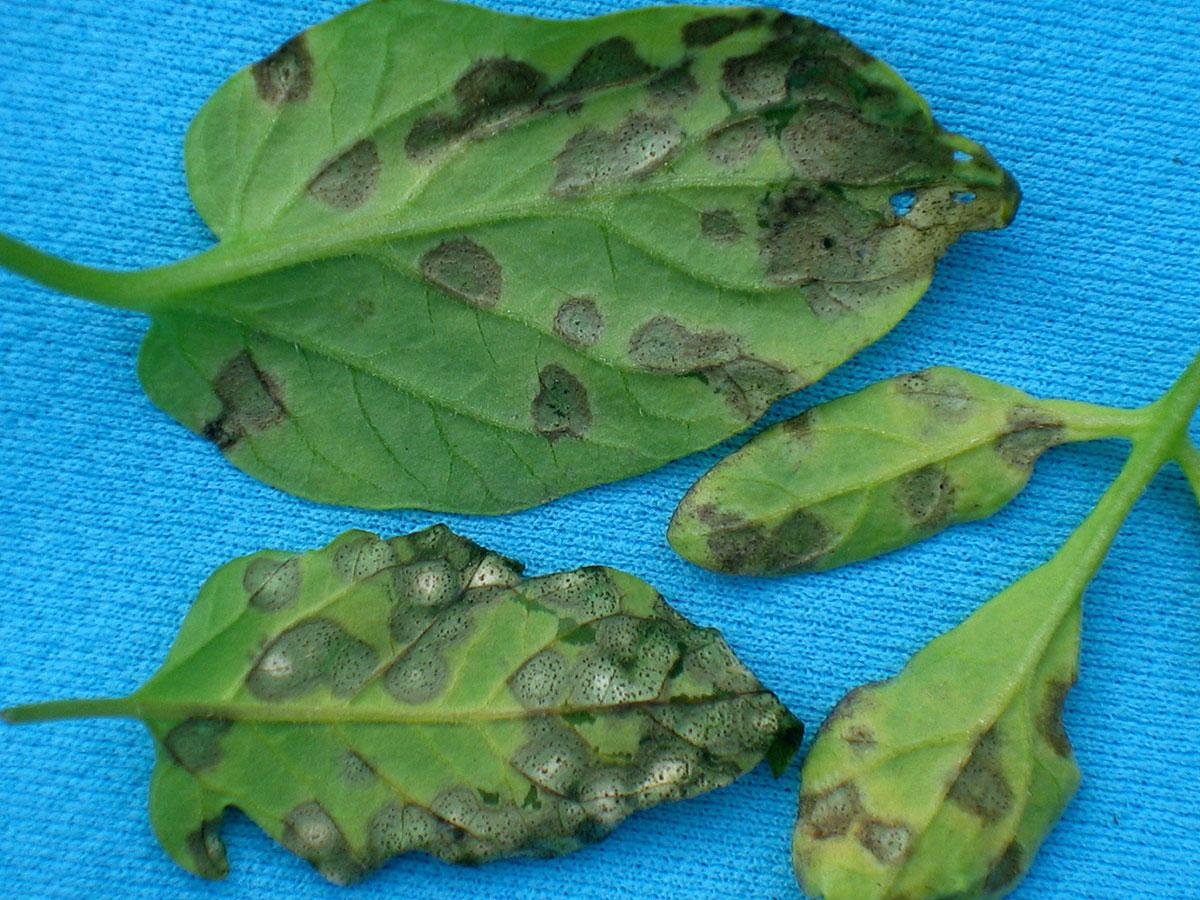Tomato Septoria leaf spot: (106, 13, 1037, 522), (35, 523, 828, 891), (807, 525, 1099, 900), (654, 361, 1072, 584)
